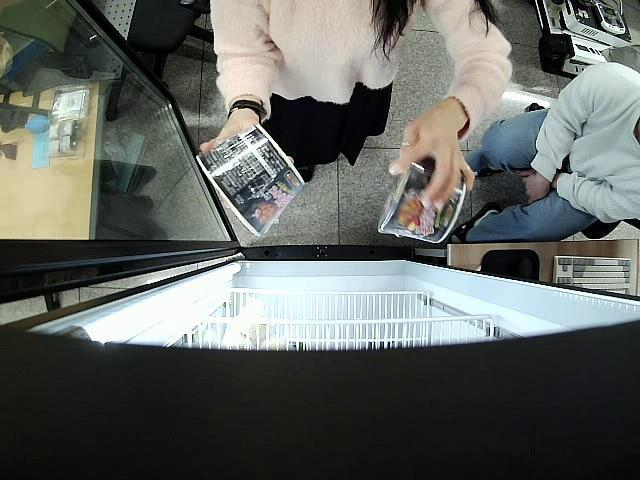07_buldak_L: (192, 125, 303, 242), (376, 152, 467, 243)
